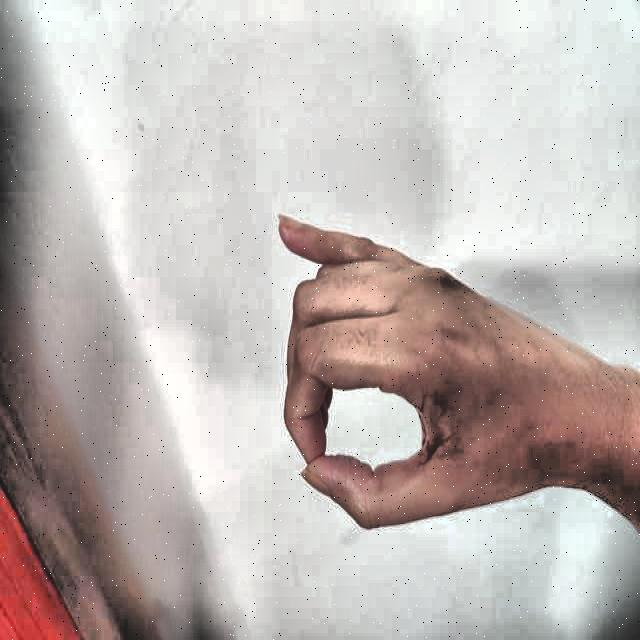Ou: (249, 178, 569, 552)
